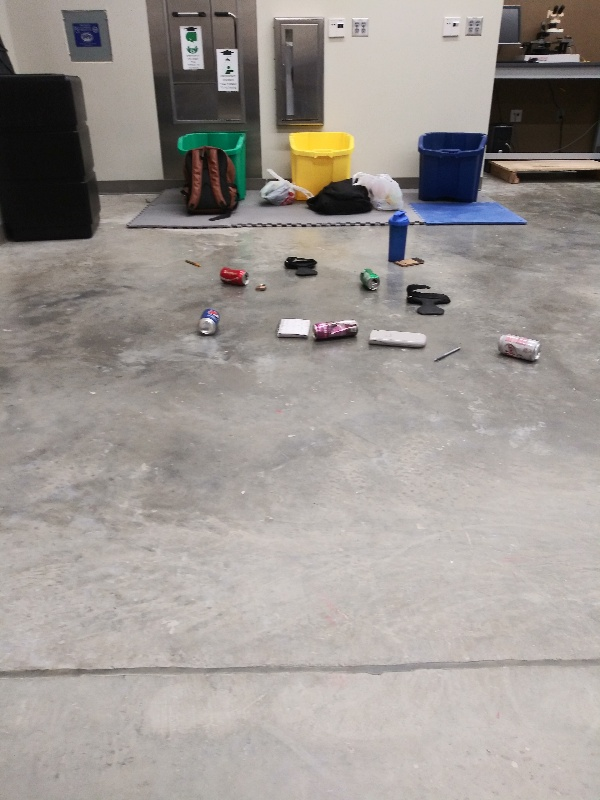can: (497, 330, 543, 361), (310, 318, 361, 344), (197, 306, 222, 339), (216, 266, 252, 287), (358, 267, 379, 291)
